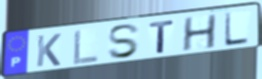H: (181, 13, 218, 53)
K: (35, 32, 63, 69)
L: (72, 29, 100, 67), (223, 11, 251, 48)
S: (106, 22, 142, 60)
T: (148, 19, 177, 55)
